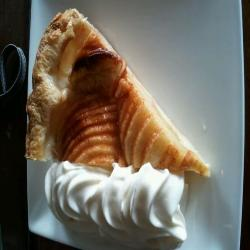apple_pie: (21, 15, 217, 185)
icecream: (41, 161, 196, 247)
